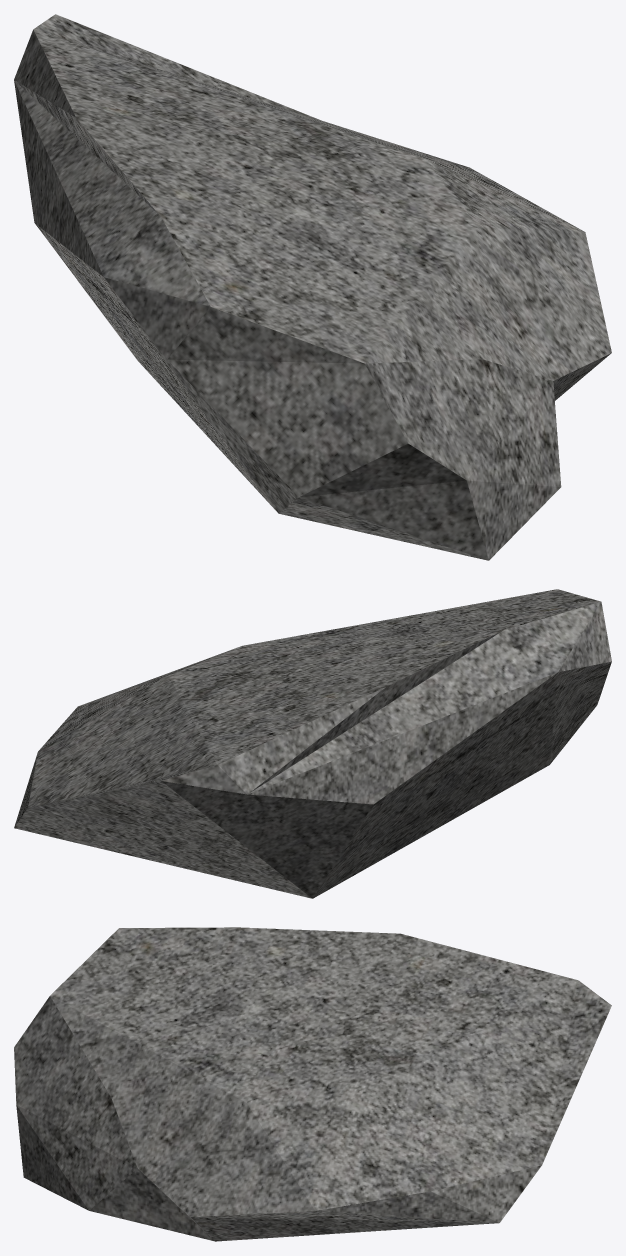
The model's file is roccia_piccola_12.fbx.
3 views of the same model, one above another, from view 1: azimuth 30°, elevation 25°; view 2: azimuth 150°, elevation 25°; view 3: azimuth 270°, elevation 25° (orthographic). The views are drawn at different scales.
Parts seen in each view (by area): view 1: roccia_piccola_12; view 2: roccia_piccola_12; view 3: roccia_piccola_12.
Part boxes in pixels (x1=…): roccia_piccola_12: x1=14, y1=14, x2=611, y2=560; roccia_piccola_12: x1=14, y1=589, x2=611, y2=898; roccia_piccola_12: x1=14, y1=927, x2=611, y2=1241.
Size of the model in its own units: 20.38 by 10.09 by 27.83.
